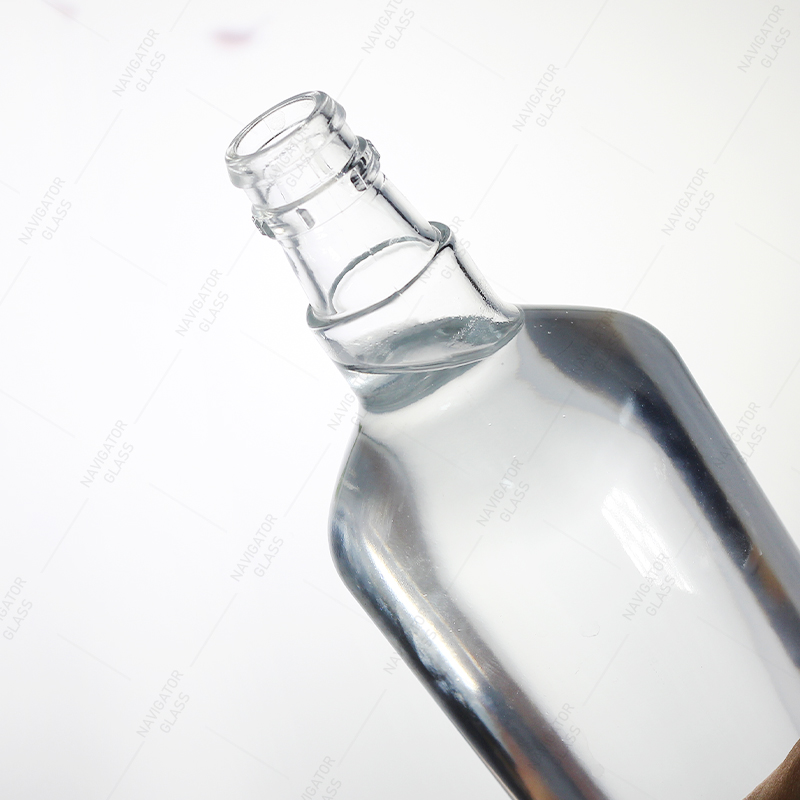glass_bottle: (210, 79, 799, 799)
